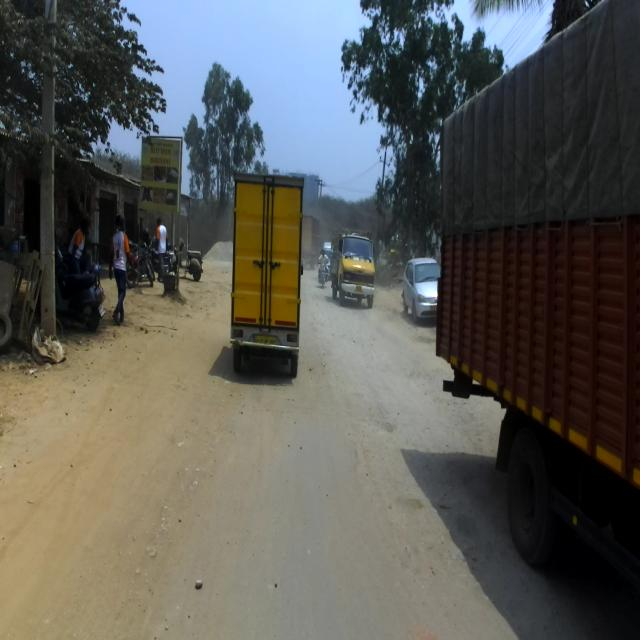electric pole ahead at: (34, 0, 70, 360)
person ahead at: (105, 208, 133, 331)
truck ahead at: (432, 0, 640, 619), (238, 164, 301, 380), (336, 232, 377, 310)
